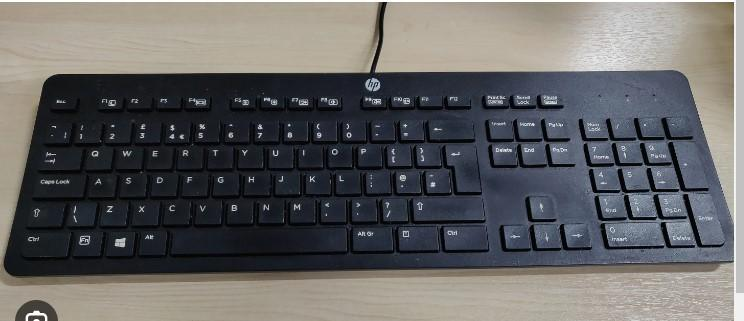Keyboard: (1, 71, 731, 278)
